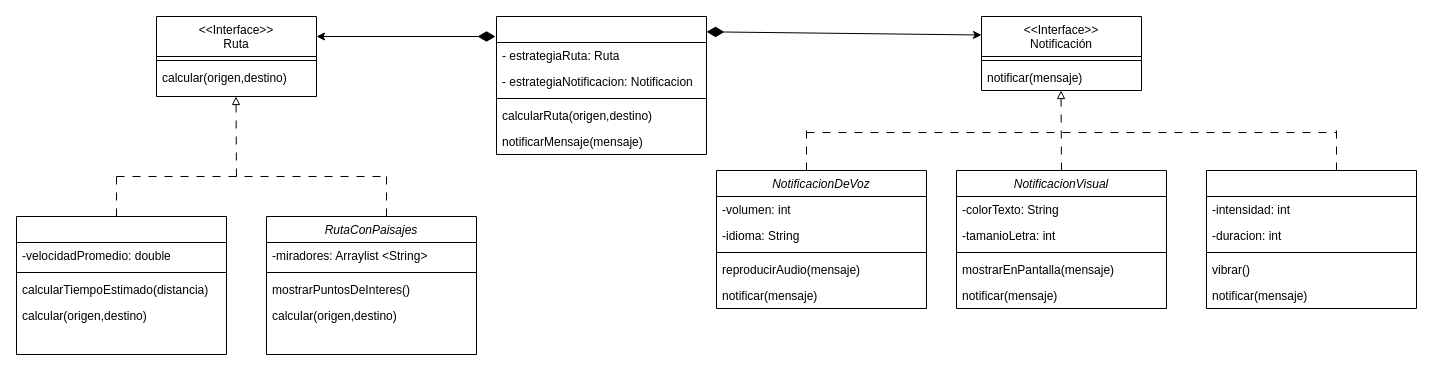
This 1433x371 diagram has some shape labels left out. Each missing label, with the box of its shape:
GPS: (496, 16, 706, 154)
NotificacionDeVibracion: (1206, 170, 1416, 308)
RutaMasRapida: (16, 216, 226, 354)
